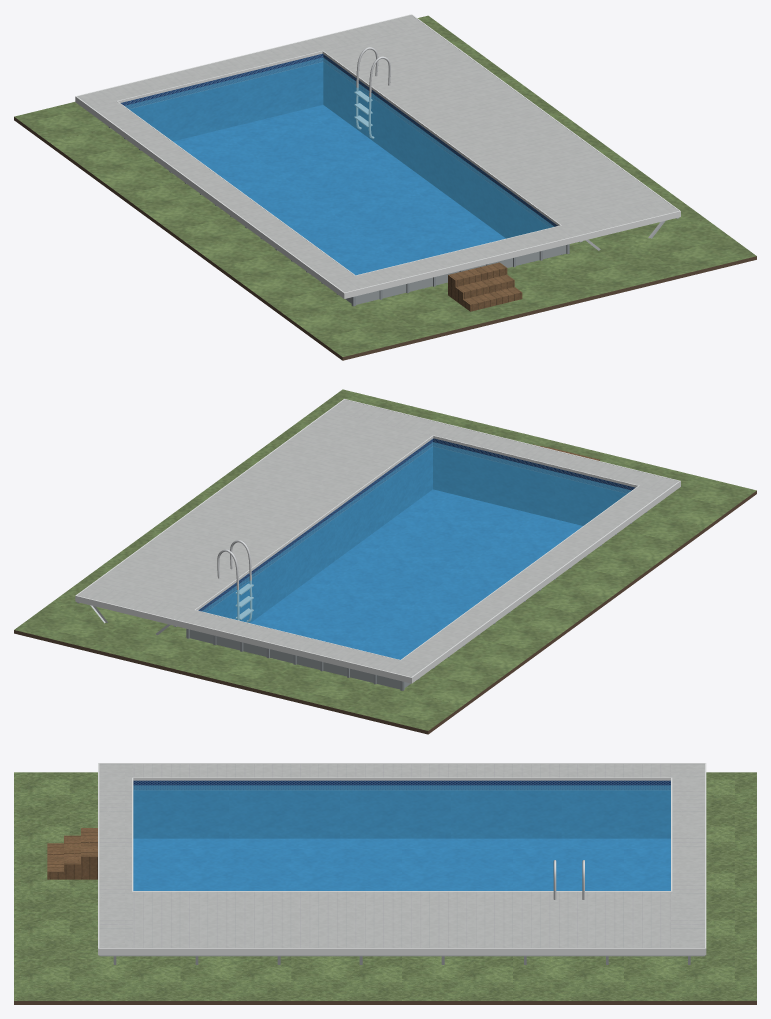
Rendered from kayak-pool-16x32-gray-side-rec-nofence.8ba397e721.glb.
3 renders of one model, top to bottom at view 1: azimuth 30°, elevation 25°; view 2: azimuth 150°, elevation 25°; view 3: azimuth 270°, elevation 25°, orthographic. The views are drawn at different scales.
Parts seen in each view (by area): view 1: water, deck, ground, liner_floor, liner_wall, fascia, soil, steps, wall, steel; view 2: water, ground, deck, liner_floor, liner_wall, fascia, soil, wall, steel; view 3: water, ground, deck, liner_wall, liner_floor, fascia, soil, steps, stud.
Boxes of the visible parts, bbox=[...] form: water: bbox=[125, 57, 553, 274]; deck: bbox=[77, 15, 678, 292]; ground: bbox=[14, 15, 756, 356]; liner_floor: bbox=[173, 105, 505, 274]; liner_wall: bbox=[120, 53, 557, 238]; fascia: bbox=[75, 14, 680, 298]; soil: bbox=[14, 117, 756, 360]; steps: bbox=[448, 262, 522, 311]; wall: bbox=[345, 245, 566, 304]; steel: bbox=[354, 47, 390, 138]; water: bbox=[202, 442, 631, 659]; ground: bbox=[14, 389, 756, 730]; deck: bbox=[77, 400, 678, 676]; liner_floor: bbox=[251, 489, 582, 659]; liner_wall: bbox=[198, 438, 635, 622]; fascia: bbox=[75, 399, 680, 683]; soil: bbox=[14, 490, 756, 734]; wall: bbox=[189, 629, 410, 689]; steel: bbox=[217, 540, 253, 622]; water: bbox=[133, 785, 670, 890]; ground: bbox=[14, 772, 756, 1000]; deck: bbox=[99, 764, 704, 947]; liner_wall: bbox=[133, 780, 670, 838]; liner_floor: bbox=[133, 838, 670, 890]; fascia: bbox=[98, 763, 706, 955]; soil: bbox=[14, 1001, 756, 1004]; steps: bbox=[47, 828, 97, 879]; stud: bbox=[99, 955, 704, 964].
Bounding box in the file's own units: 9.75 × 1.9 × 13.4.
Materials: 12 (5 with a texture image).
